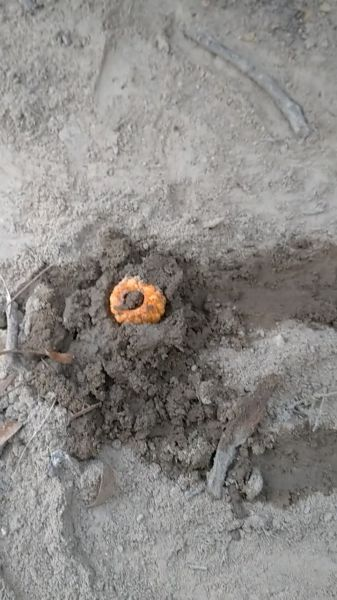eggs: (102, 268, 177, 333)
